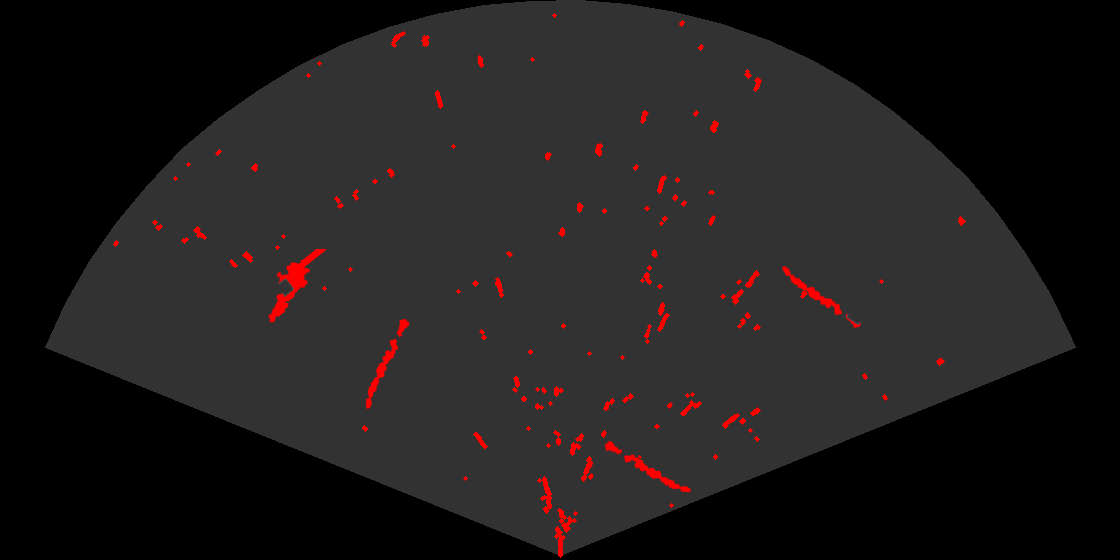chain: (780, 265, 863, 330), (603, 439, 692, 494), (364, 317, 411, 411)
frogman: (267, 249, 326, 324)
